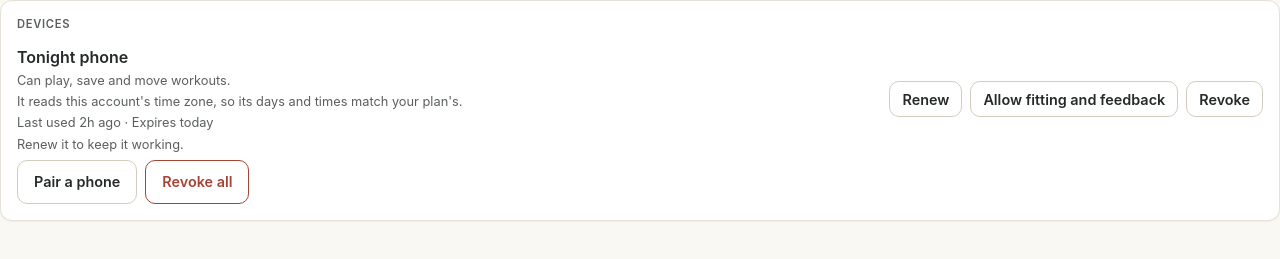
Test: Settings → Devices › Not now puts Renew's question away and sends nothing; a phone on its last day can still be renewed
Click the button "Renew": (926, 99) [890,81,962,117]
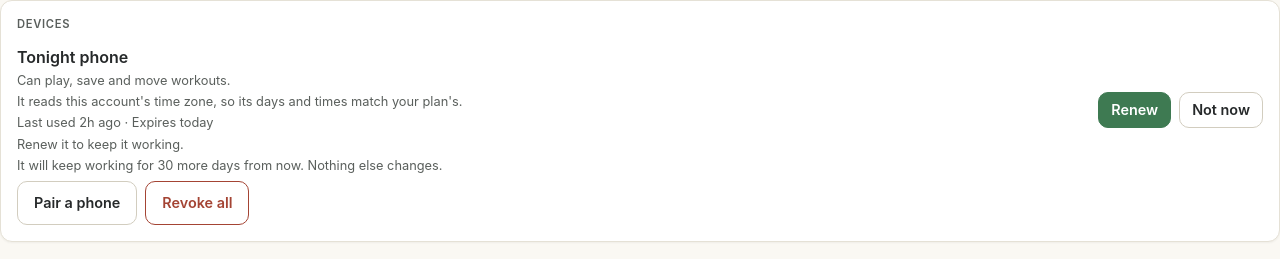
Click the button "Not now": (1221, 110) [1179,92,1263,128]
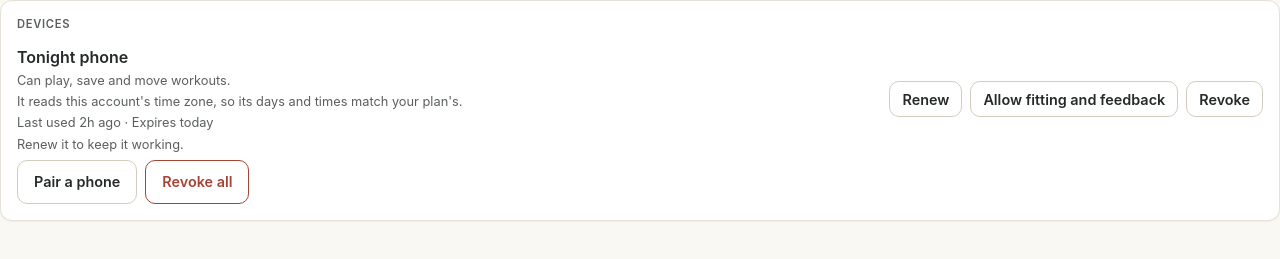
Expected: the text with class "setting-row" no longer shows "It will keep working for 30 more days from now. Nothing else changes."
Click the button "Renew": (926, 99) [890,81,962,117]
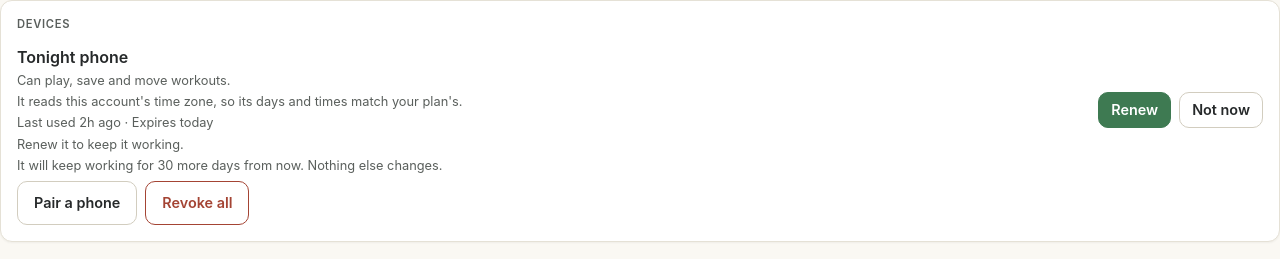
Click the button "Renew": (1135, 110) [1098,92,1171,128]
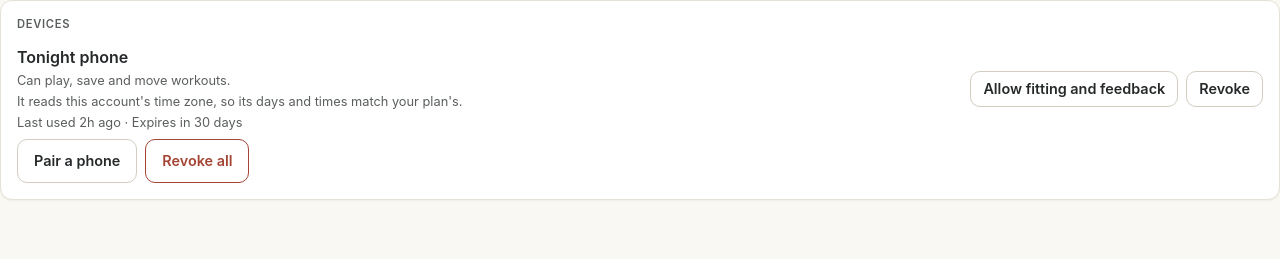
Expected: the element with class "setting-row" shows "Expires in 30 days", [132,115,242,130]
